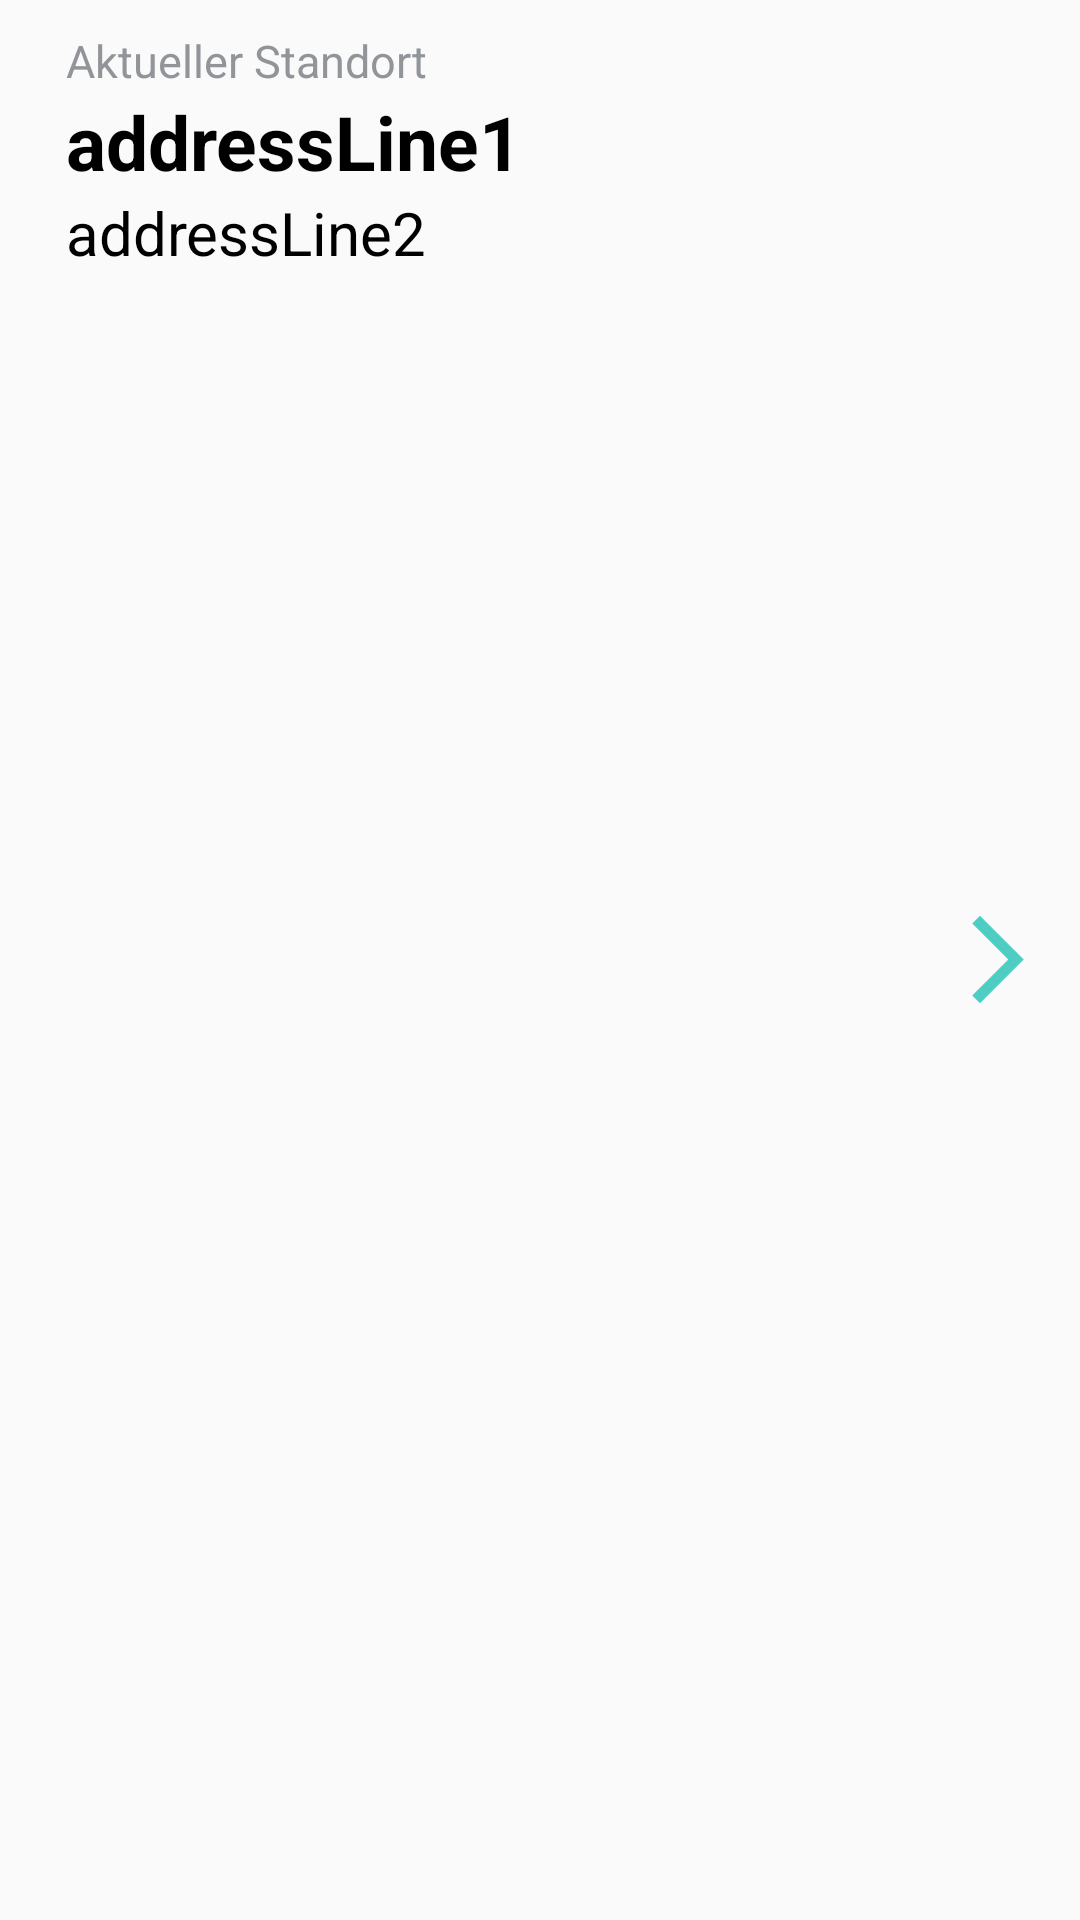

Where icons sit on this 1080 × 1920 app screen, as (x1, y1, x2, y2):
arrow forward custom: (972, 916, 1024, 1003)
